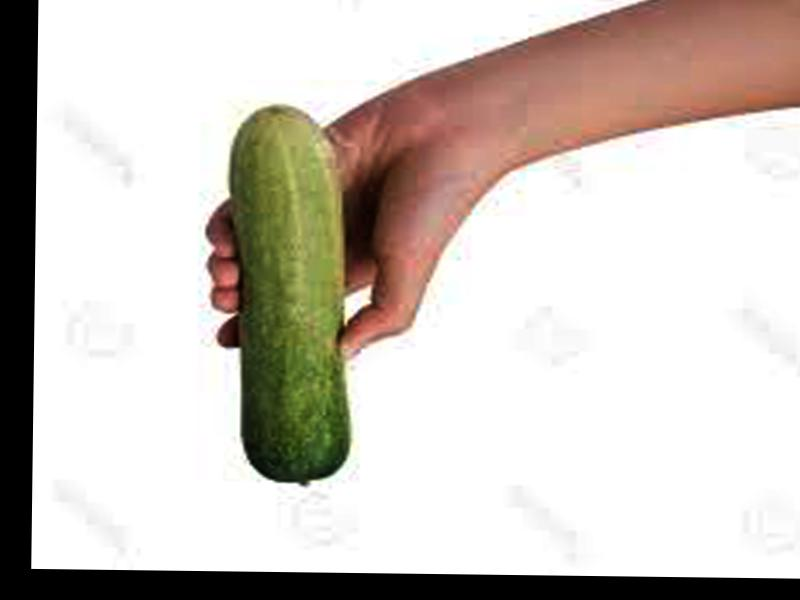Cucumber: (230, 102, 361, 488)
